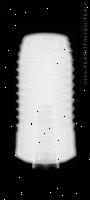Euroteknika: (15, 31, 77, 168)
